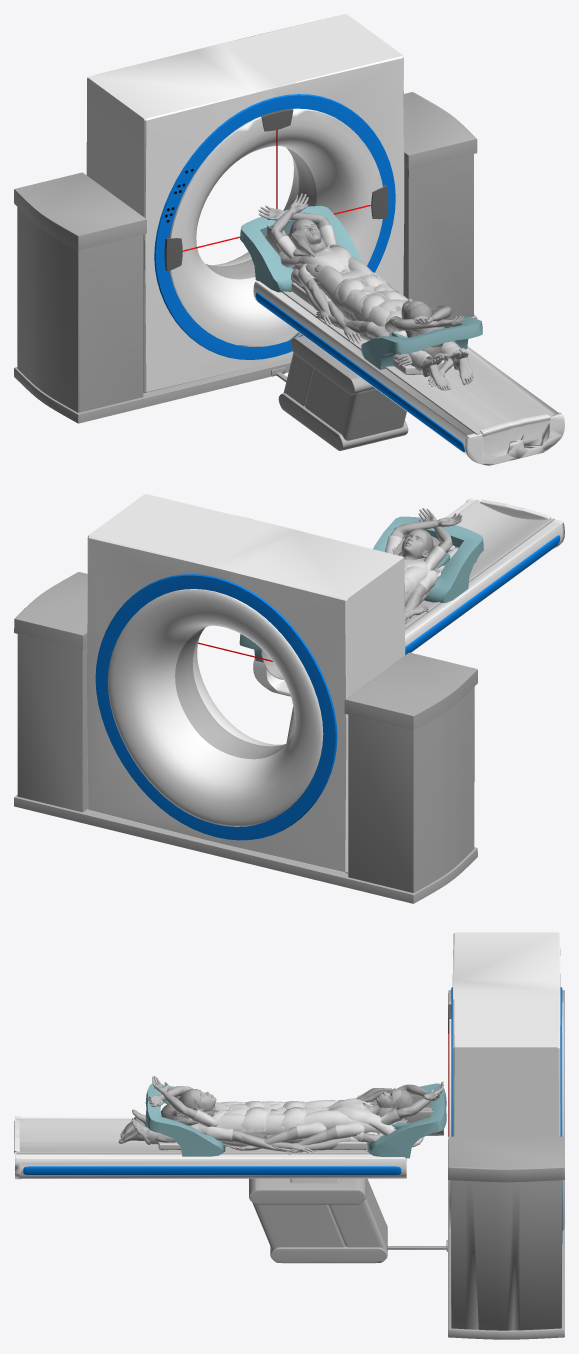
The model's file is Julia.glb.
3 views of the same model, one above another, from view 1: azimuth 30°, elevation 25°; view 2: azimuth 150°, elevation 25°; view 3: azimuth 270°, elevation 25° (orthographic). The views are drawn at different scales.
Visible parts, largest first — view 1: SM_MRI_tilt.001, SM_MRI_base, SM_MRI_bed_upDown.002, SM_MRI_bed_inOut.002, SM_head_arm_rest2, SM_head_arm_rest2.001, F5_body_geo1, F5_body_geo1.001, SM_side_emitters, F5_scrubTop_geo5, F5_scrubBottom_geo4, F5_scrubBottom_geo1.001 (+4 smaller); view 2: SM_MRI_tilt.001, SM_MRI_base, SM_MRI_bed_upDown.002, SM_MRI_bed_inOut.002, SM_head_arm_rest2.001, F5_body_geo1.001, F5_scrubTop_geo1.001; view 3: SM_MRI_base, SM_MRI_tilt.001, SM_MRI_bed_upDown.002, SM_MRI_bed_inOut.002, SM_head_arm_rest2, SM_head_arm_rest2.001, F5_body_geo1.001, F5_body_geo1, F5_scrubTop_geo5, F5_body_geo4, F5_scrubBottom_geo1.001, F5_scrubBottom_geo4 (+3 smaller).
Boxes of the visible parts, x1,y1,x2,y2 form: SM_MRI_tilt.001: (86, 14, 404, 392); SM_MRI_base: (14, 92, 477, 450); SM_MRI_bed_upDown.002: (253, 281, 564, 465); SM_MRI_bed_inOut.002: (282, 291, 554, 459); SM_head_arm_rest2: (240, 206, 360, 292); SM_head_arm_rest2.001: (361, 317, 482, 369); F5_body_geo1: (258, 193, 330, 244); F5_body_geo1.001: (281, 231, 464, 330); SM_side_emitters: (164, 185, 388, 271); F5_scrubTop_geo5: (281, 244, 377, 302); F5_scrubBottom_geo4: (361, 291, 462, 374); F5_scrubBottom_geo1.001: (291, 258, 375, 303); SM_MRI_tilt.001: (87, 494, 405, 873); SM_MRI_base: (14, 572, 477, 903); SM_MRI_bed_upDown.002: (253, 498, 564, 696); SM_MRI_bed_inOut.002: (405, 499, 554, 629); SM_head_arm_rest2.001: (373, 516, 483, 602); F5_body_geo1.001: (390, 508, 462, 560); F5_scrubTop_geo1.001: (385, 535, 445, 570); SM_MRI_base: (249, 990, 564, 1339); SM_MRI_tilt.001: (448, 932, 564, 1243); SM_MRI_bed_upDown.002: (15, 1116, 406, 1183); SM_MRI_bed_inOut.002: (14, 1118, 370, 1154); SM_head_arm_rest2: (367, 1083, 446, 1158); SM_head_arm_rest2.001: (145, 1083, 225, 1156); F5_body_geo1.001: (148, 1076, 422, 1122); F5_body_geo1: (376, 1081, 443, 1118); F5_scrubTop_geo5: (302, 1098, 394, 1135); F5_body_geo4: (118, 1116, 298, 1150); F5_scrubBottom_geo1.001: (286, 1100, 380, 1133); F5_scrubBottom_geo4: (149, 1101, 264, 1146).
Bounding box in the file's own units: 2.3 × 1.53 × 2.95.
Materials: 1 (1 with a texture image).
